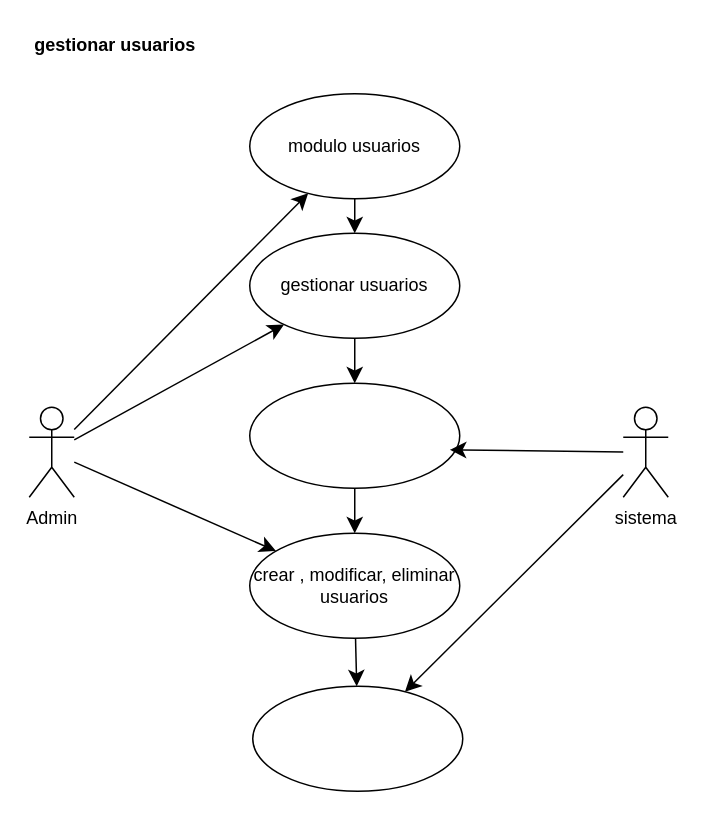
Image size: 702x818. Some labels were removed from this diagram. The shapes that lost their labels are listed below. From the top down, each one's box as (x1, y1, x2, y2) in pixels, then its label:
(248, 382, 460, 488): visualizar usuarios
(251, 685, 463, 791): almacenar datos
